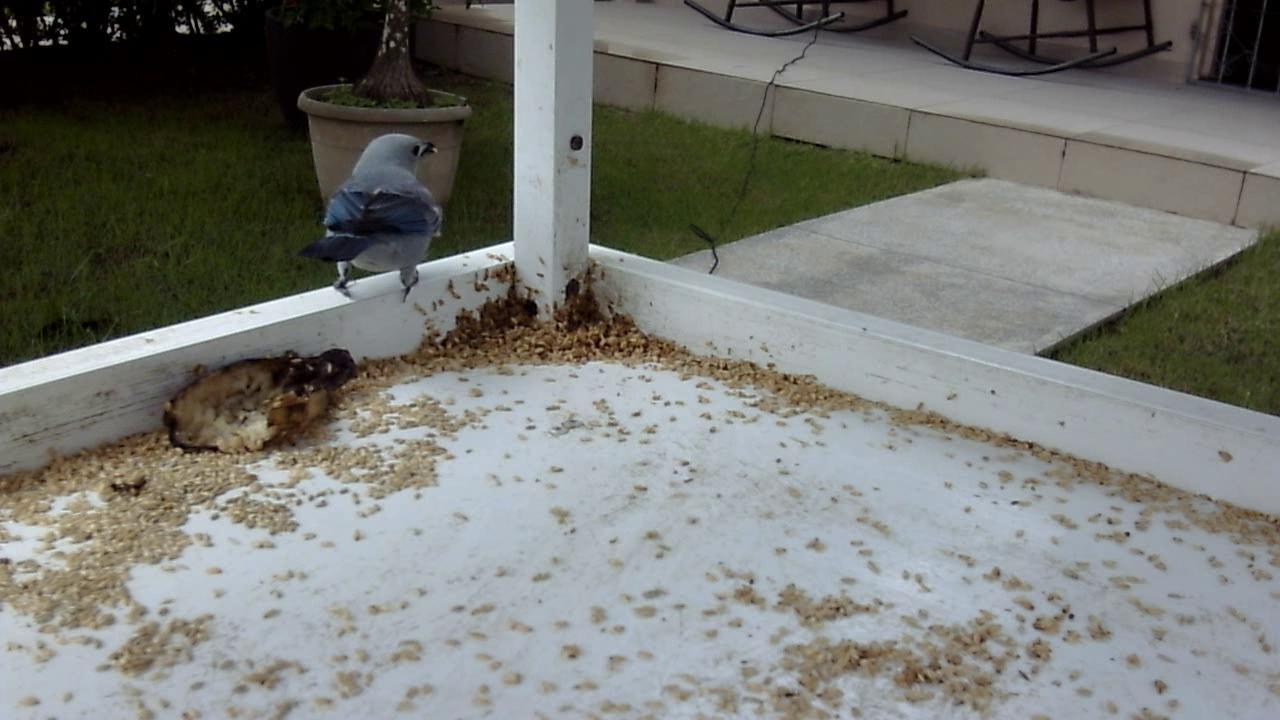sanhaco_da_amazonia: (293, 124, 452, 304)
